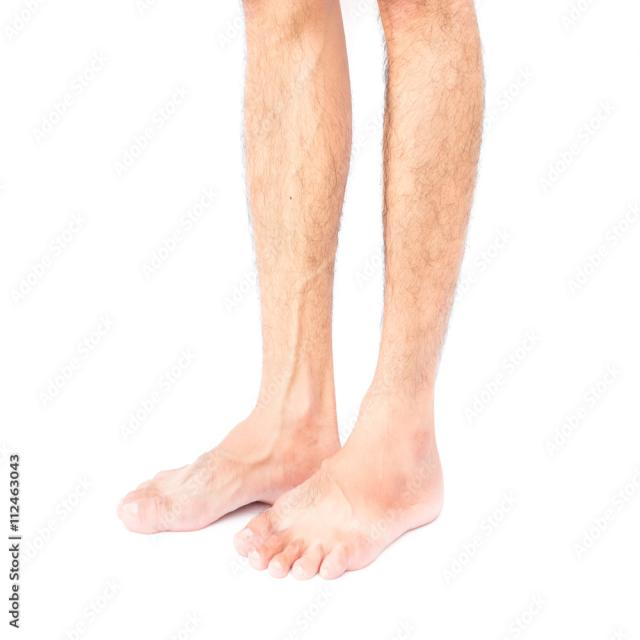Normal: (219, 32, 494, 397)
